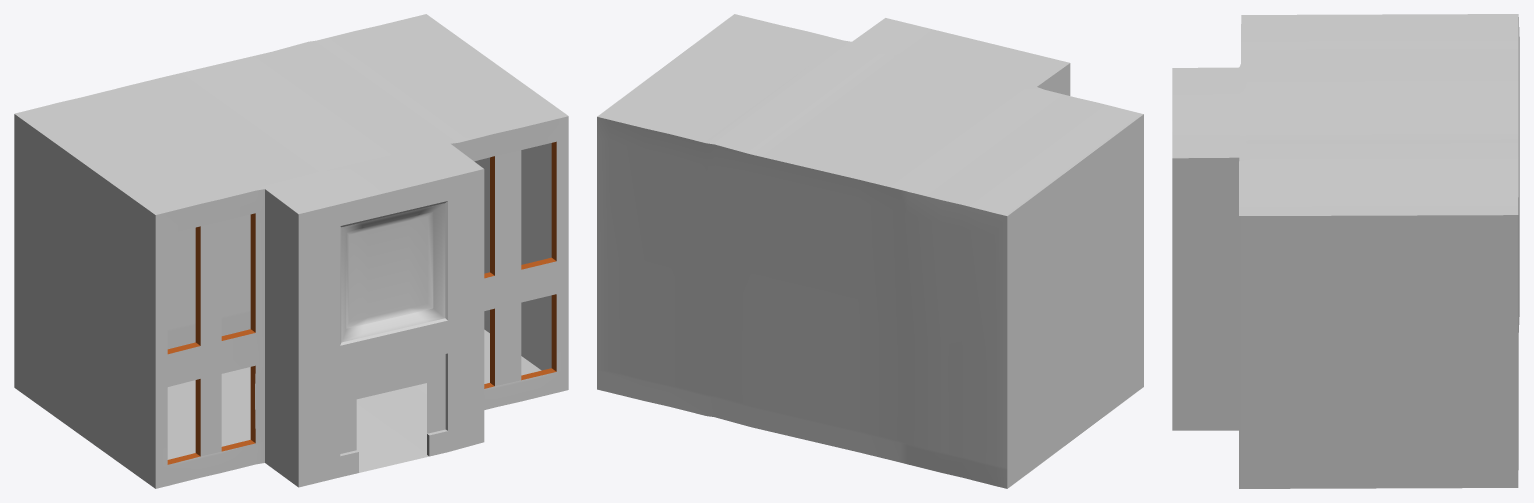
Rendered from Building_Bank_Mod.fbx.
The picture shows the model from 3 angles, left to right: view 1: azimuth 30°, elevation 25°; view 2: azimuth 150°, elevation 25°; view 3: azimuth 270°, elevation 25°; orthographic projection.
Parts seen in each view (by area): view 1: Bank; view 2: Bank; view 3: Bank.
Part boxes in pixels (x1,y1,x2,y2): Bank: [14, 14, 568, 488]; Bank: [597, 14, 1143, 488]; Bank: [1172, 14, 1519, 488].
Bounding box in the file's own units: 8.54 × 5.42 × 6.23.
